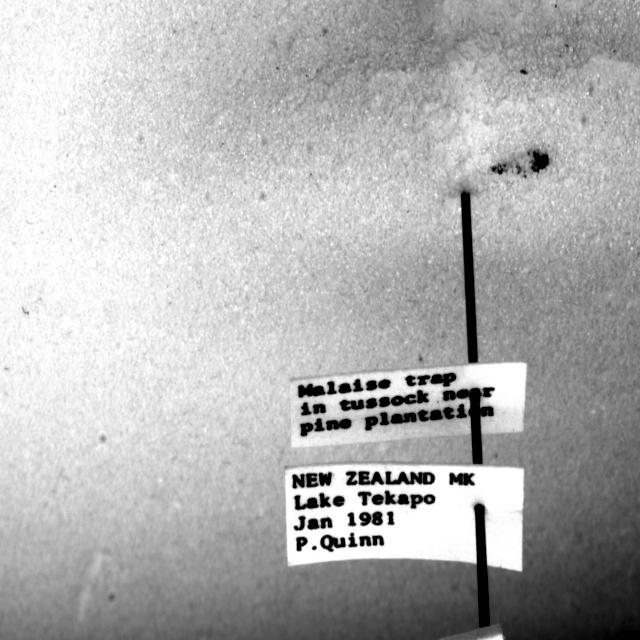typed_label: (285, 463, 524, 572), (290, 362, 526, 448)
